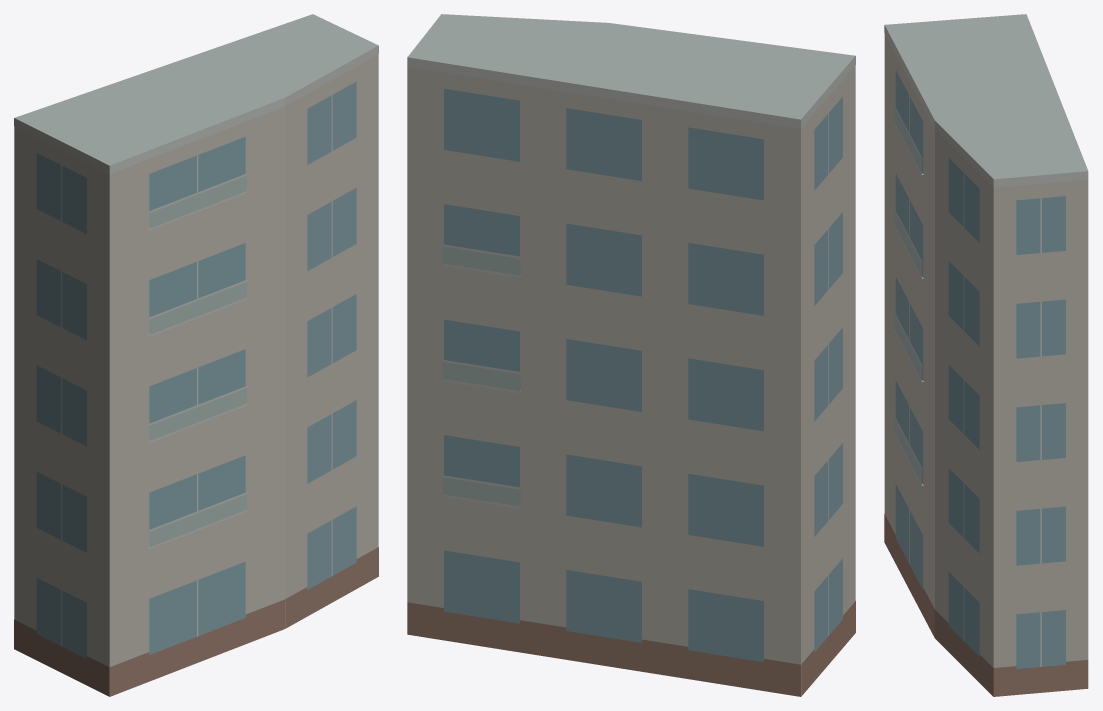
The model's file is survey-upis-32607908.glb.
3 renders of one model, left to right at view 1: azimuth 30°, elevation 25°; view 2: azimuth 150°, elevation 25°; view 3: azimuth 270°, elevation 25°, orthographic. The views are drawn at different scales.
Parts seen in each view (by area): view 1: survey-upis-32607908.tmp; view 2: survey-upis-32607908.tmp; view 3: survey-upis-32607908.tmp.
Boxes of the visible parts, x1,y1,x2,y2 form: survey-upis-32607908.tmp: (14, 14, 378, 696); survey-upis-32607908.tmp: (407, 14, 855, 696); survey-upis-32607908.tmp: (884, 14, 1088, 696).
Size of the model in its own units: 10.46 by 15.25 by 5.46.
